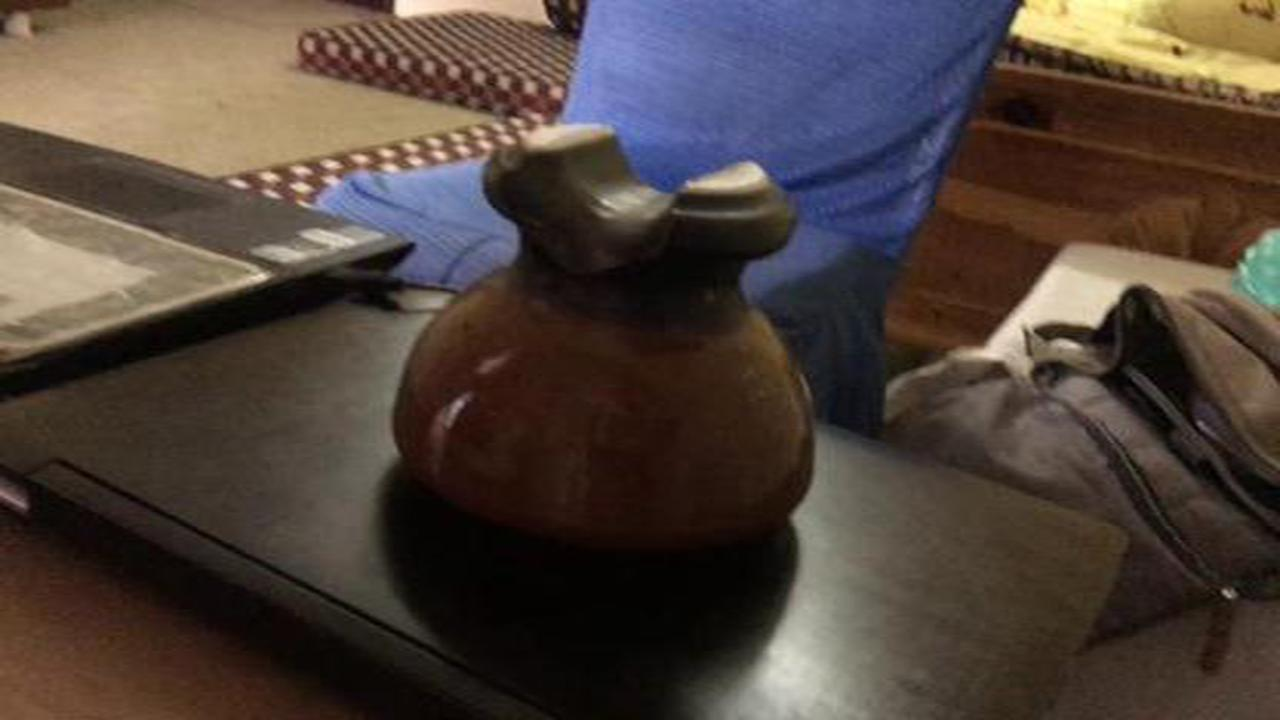insulator_pin: (364, 108, 850, 582)
